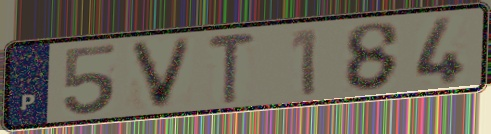1: (289, 25, 320, 98)
4: (412, 13, 469, 87)
5: (60, 41, 119, 117)
8: (342, 20, 403, 93)
T: (205, 31, 259, 106)
V: (126, 34, 198, 112)
